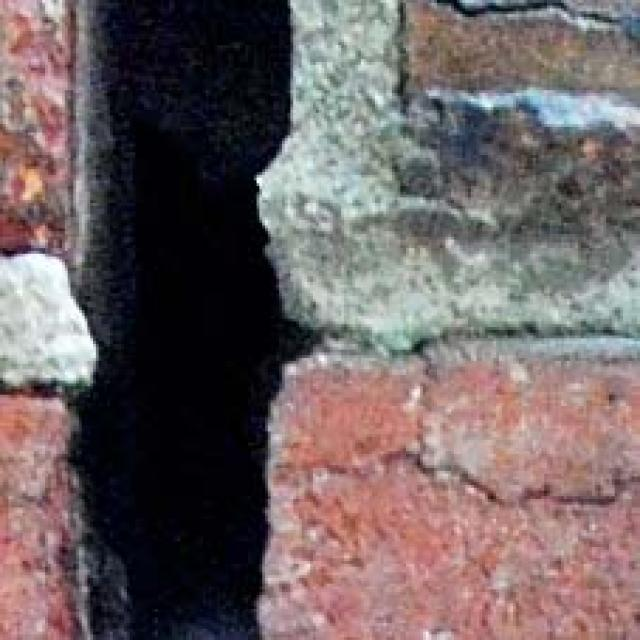Crack: (51, 0, 331, 640)
